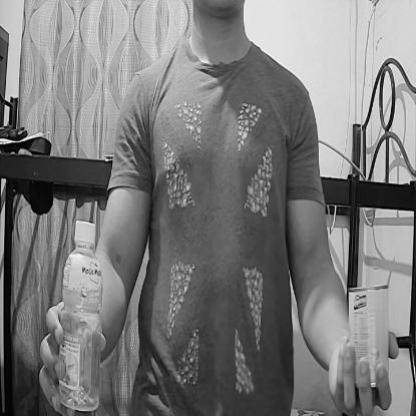Plastic Bottle: (52, 214, 101, 416)
